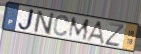A: (84, 20, 106, 46)
C: (52, 14, 71, 38)
J: (16, 8, 36, 33)
M: (67, 16, 91, 42)
N: (33, 9, 55, 36)
Z: (104, 21, 126, 48)
